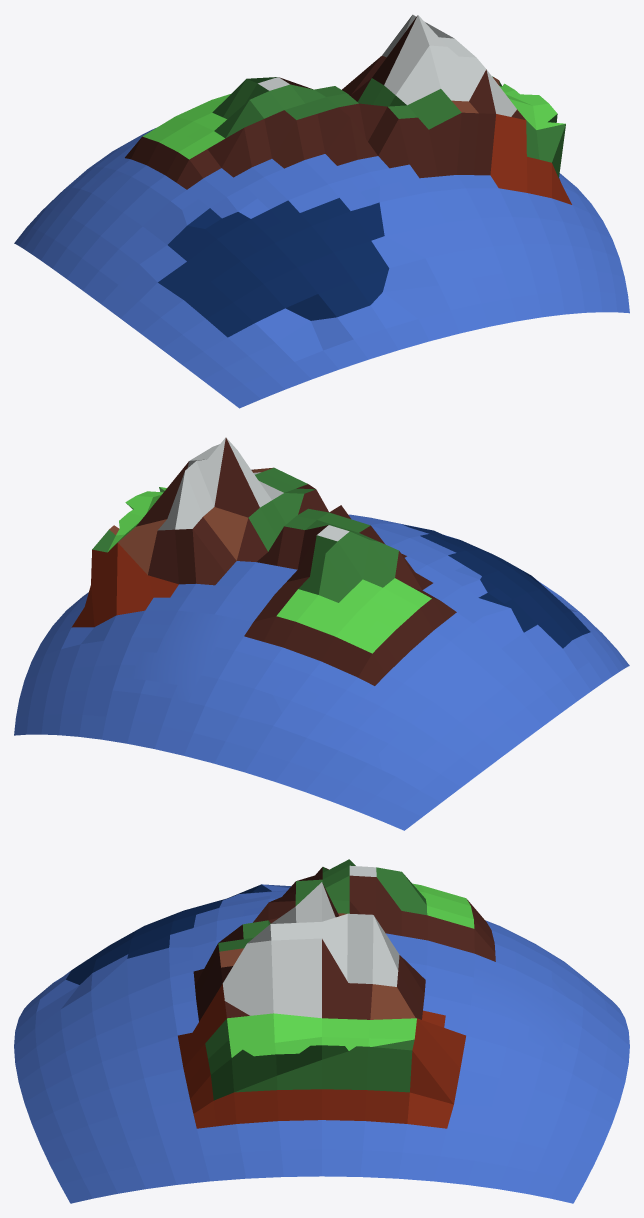
File: CubePart002.fbx
3 renders of one model, top to bottom at view 1: azimuth 30°, elevation 25°; view 2: azimuth 150°, elevation 25°; view 3: azimuth 270°, elevation 25°, orthographic. The views are drawn at different scales.
Parts seen in each view (by area): view 1: Cube.004; view 2: Cube.004; view 3: Cube.004.
Part boxes in pixels (x1,y1,x2,y2): Cube.004: [14, 14, 629, 408]; Cube.004: [14, 437, 629, 830]; Cube.004: [14, 859, 629, 1203].
Size of the model in its own units: 181 by 87.07 by 181.
